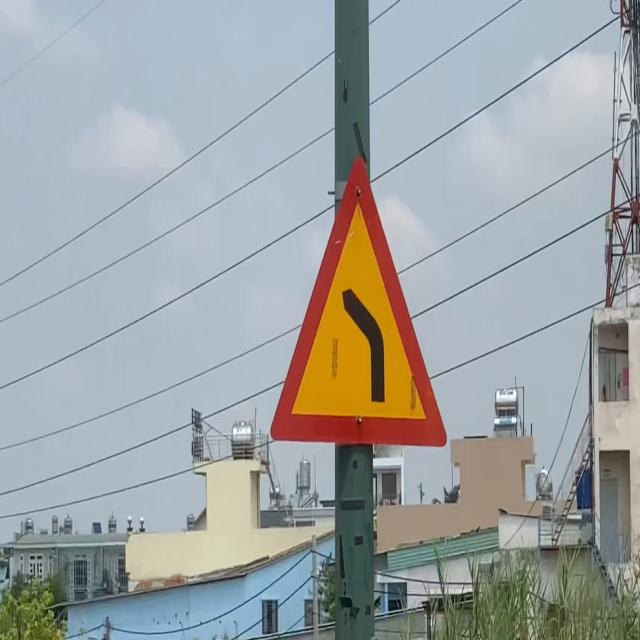Nguy hiem: (264, 145, 454, 465)
